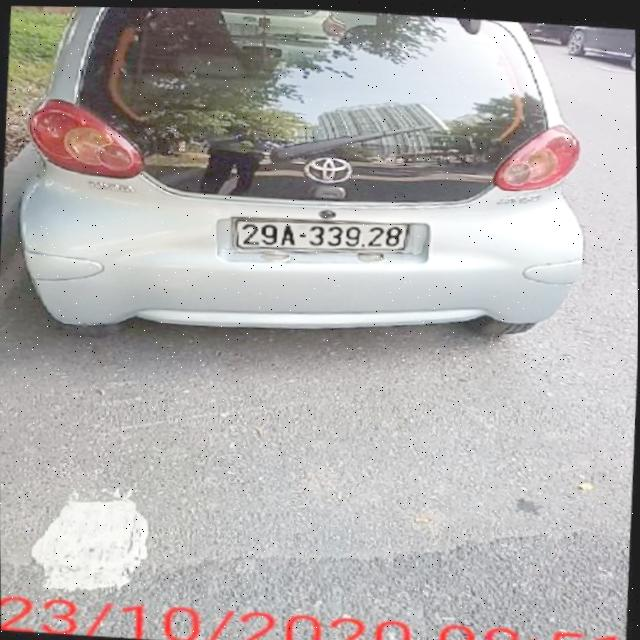car: (24, 1, 589, 353)
plate: (230, 208, 425, 263)
